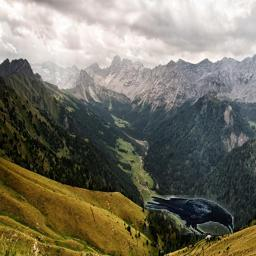Crow: (144, 195, 234, 235)
